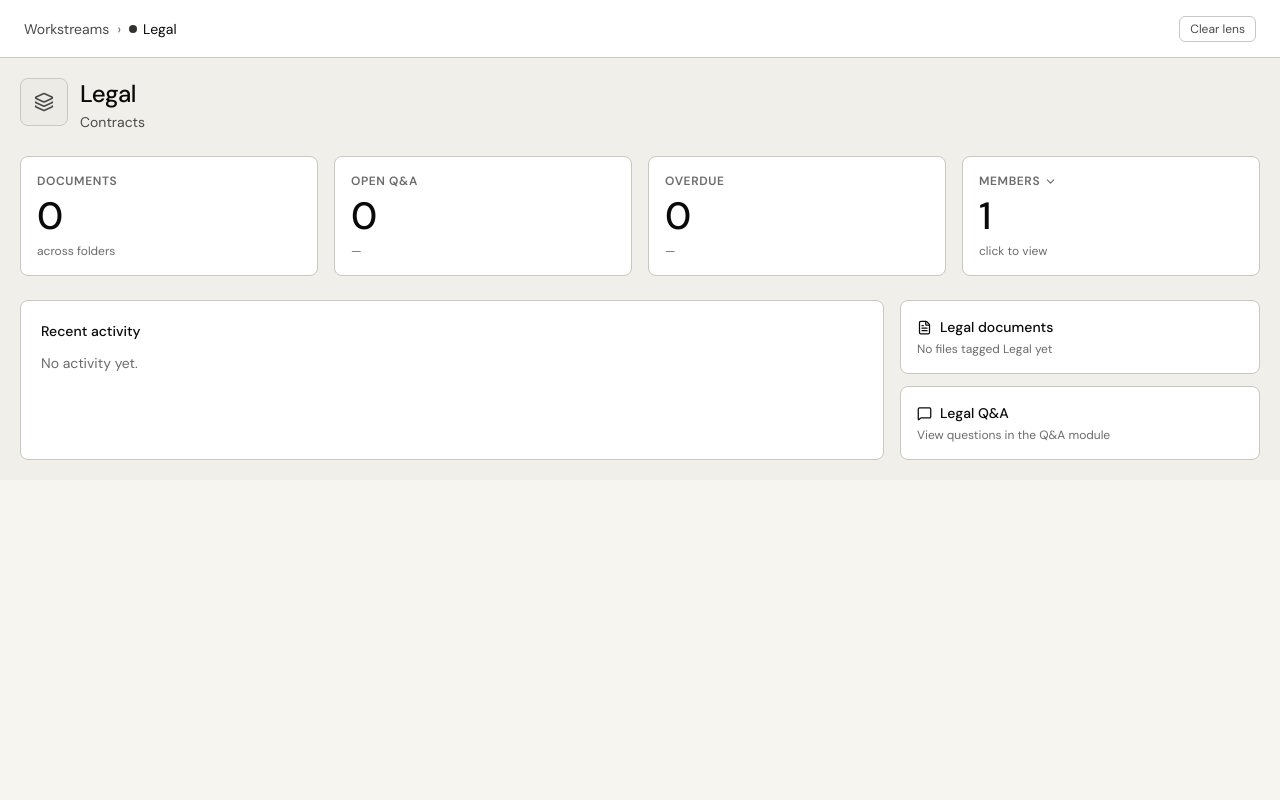
Test: WorkstreamDashboard › reveals the member list when the Members card is clicked
Expected: the heading "Legal" is shown, [80,78,145,110]
Expected: the text "Alice" is not shown
Click the button "Members 1 click to view" at (1010,181), box [962,156,1260,276]
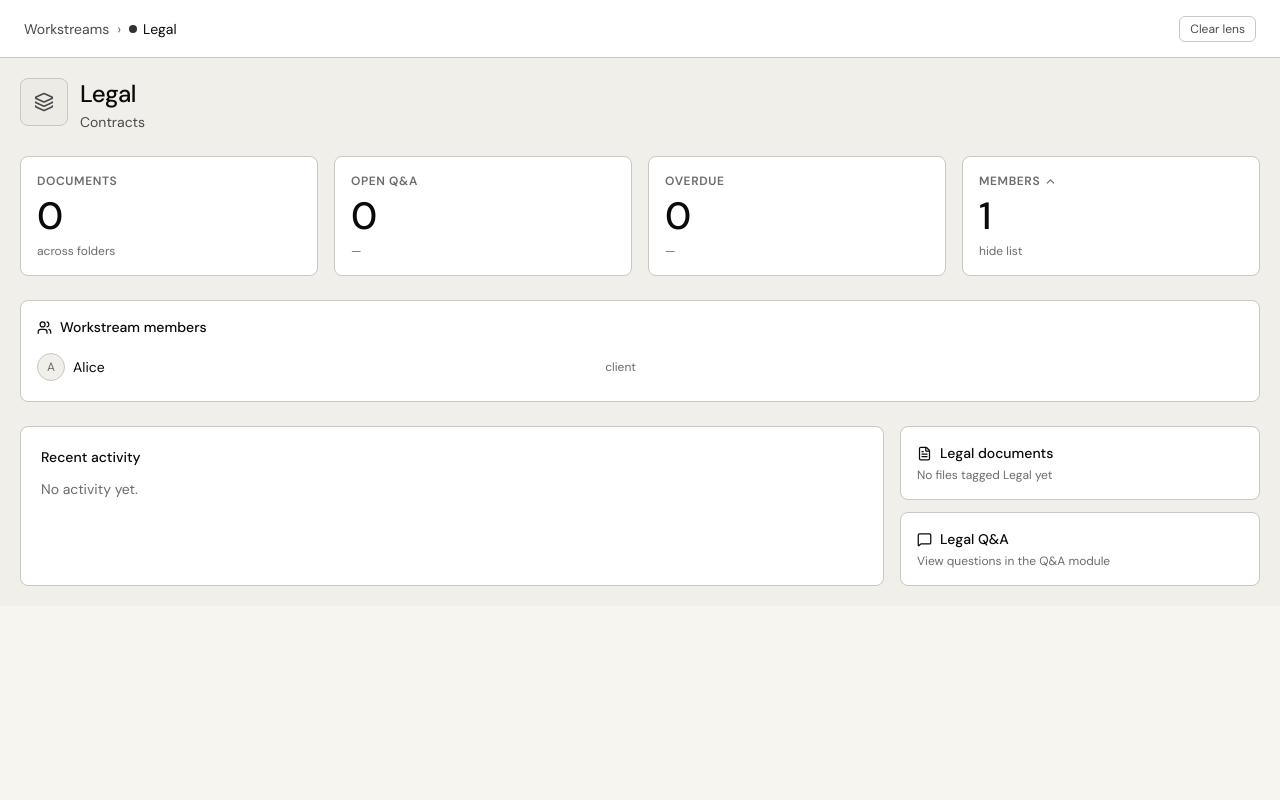
Expected: the text "Alice" is shown, [73,357,105,377]
